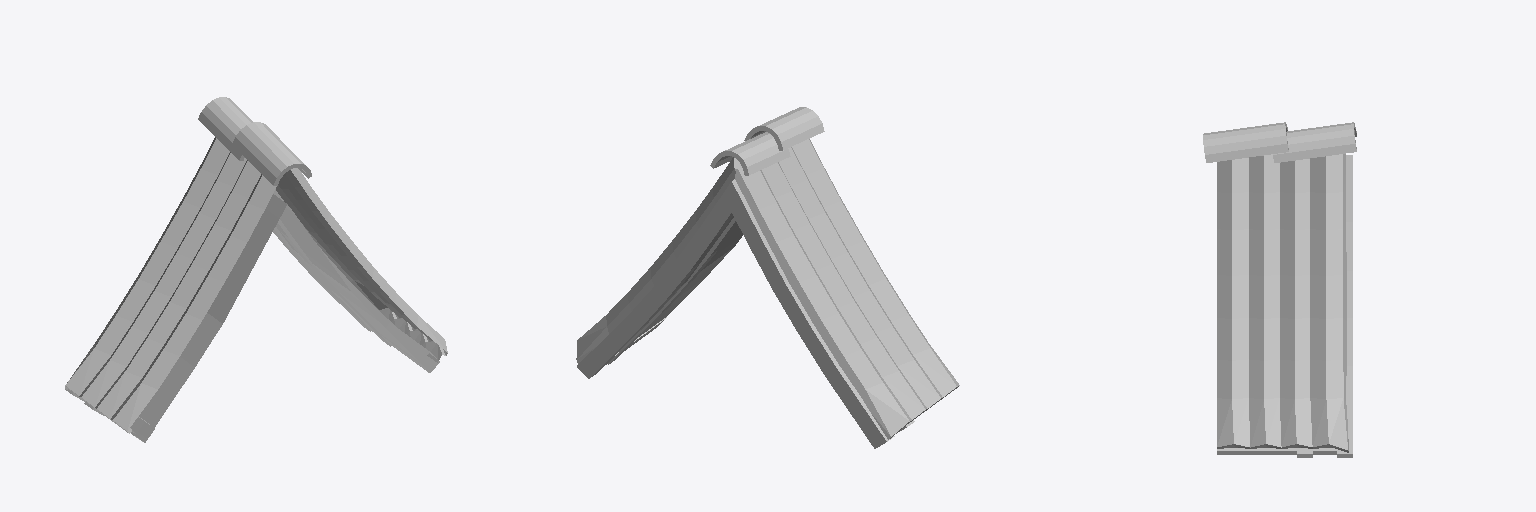
The model's file is Roof_Modular_RoundTiles_4_R.obj.
3 views of the same model, side by side, from view 1: azimuth 30°, elevation 25°; view 2: azimuth 150°, elevation 25°; view 3: azimuth 270°, elevation 25° (orthographic).
Parts seen in each view (by area): view 1: Roof_Modular_RoundTiles_4_R; view 2: Roof_Modular_RoundTiles_4_R; view 3: Roof_Modular_RoundTiles_4_R.
Boxes of the visible parts, x1,y1,x2,y2 form: Roof_Modular_RoundTiles_4_R: [65, 97, 447, 442]; Roof_Modular_RoundTiles_4_R: [576, 107, 959, 448]; Roof_Modular_RoundTiles_4_R: [1203, 122, 1356, 457].
Size of the model in its own units: 5.59 by 4.24 by 2.25.